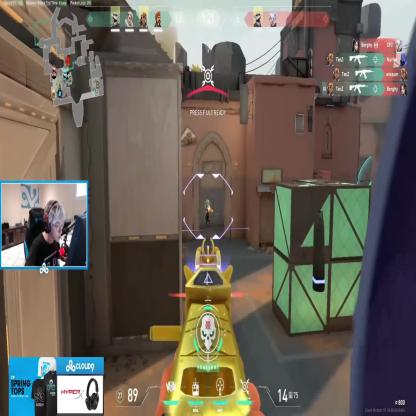enemy: (204, 199, 211, 227)
enemy_head: (206, 200, 209, 203)
